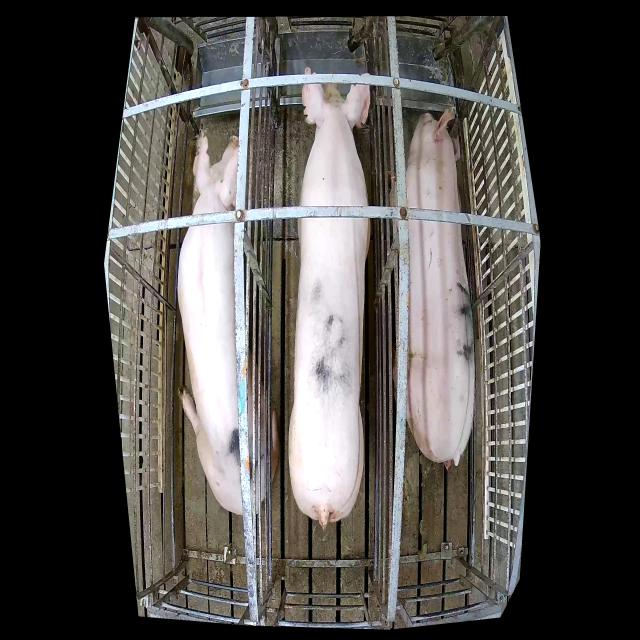pig: (176, 128, 280, 516), (288, 84, 371, 530), (389, 106, 475, 470)
